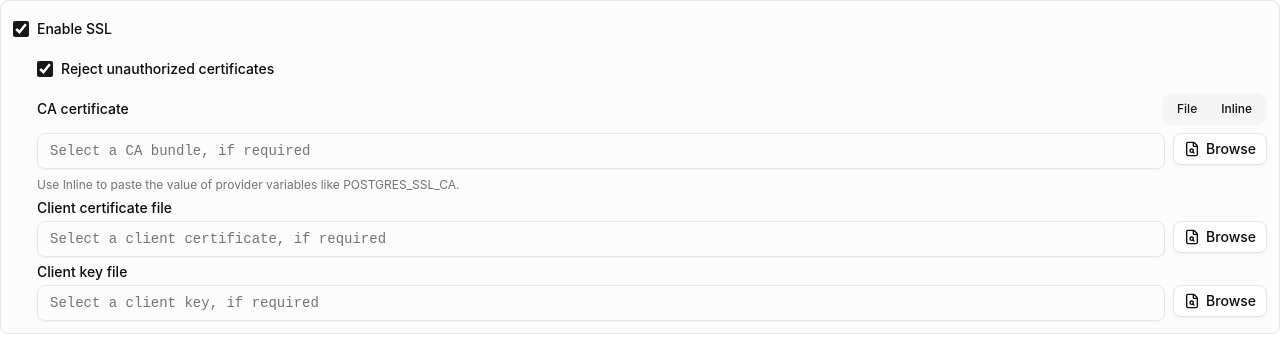
Test: connection file fields › fills SSL certificate paths from the file picker
The width and height of the screenshot is (1280, 351).
Click the 1st button "Browse" at (1220, 149), box [1173,133,1267,165]
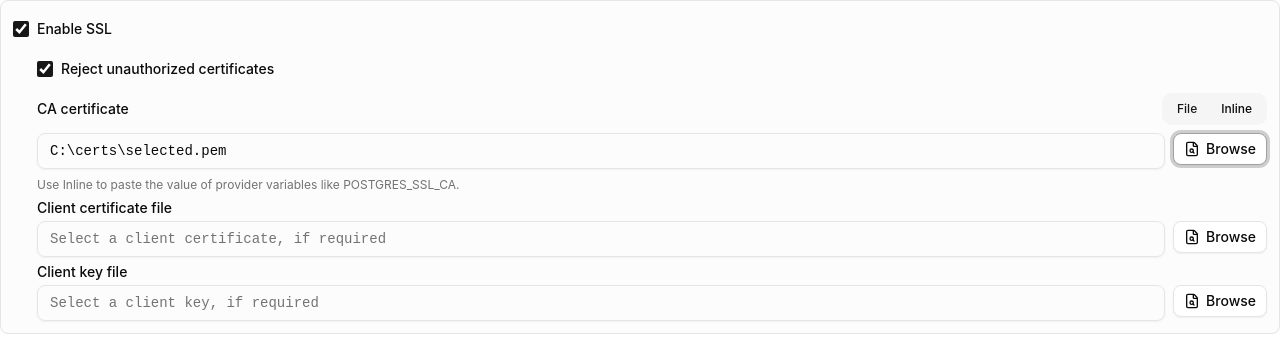
Expected: the field labelled "CA certificate" holds "C:\\certs\\selected.pem", [37,133,1165,169]
